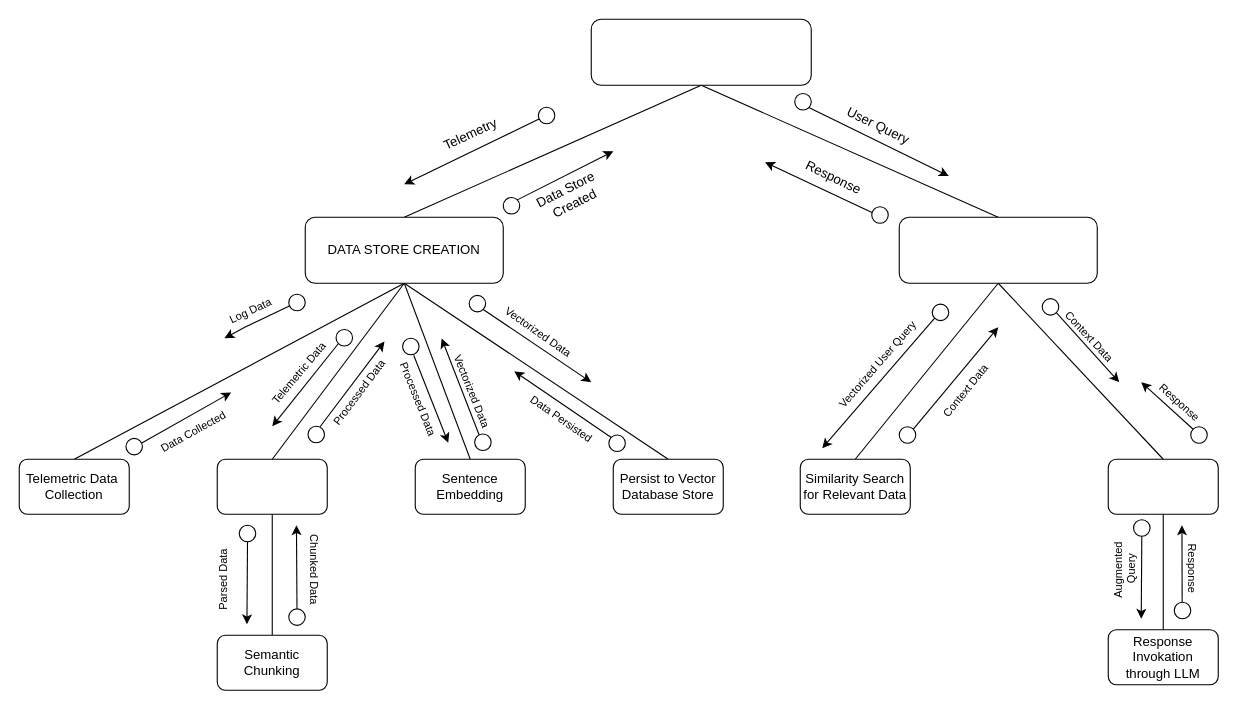
Some shapes in this 1239 by 710 pixel diagram are drawn without their labels. The centre of each missing label's shape, as x and y in pixels:
Data Parsing and Processing: the point at 271,486
GEN-AI POWERED TELEMETRY ANALYSIS SYSTEM: the point at 700,51
Prompt Augmentation: the point at 1162,486
USER QUERY RESPONSE SYSTEM: the point at 997,249
